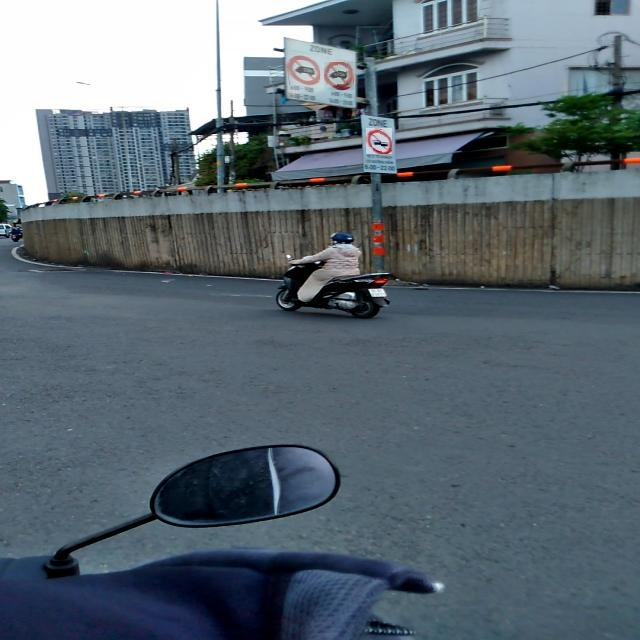bien_cam: (286, 55, 320, 85), (324, 62, 354, 90), (366, 128, 392, 154)
